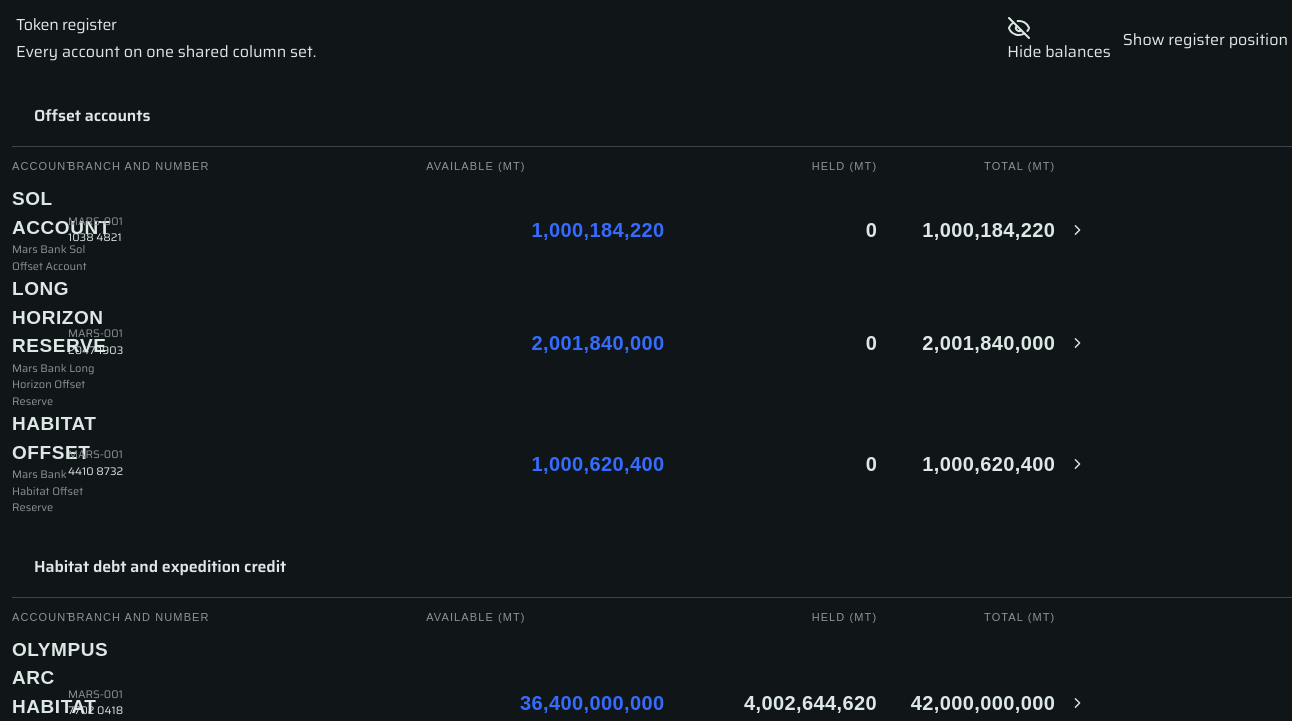
Test case: AccountsPage › keeps the Token register heading and reveals the position
The width and height of the screenshot is (1292, 721).
Expected: the heading "Token register" is shown, x1=16 y1=12 x2=117 y2=37
Click the button "Show register position".
click(1205, 40)  # box x1=1123 y1=28 x2=1288 y2=52
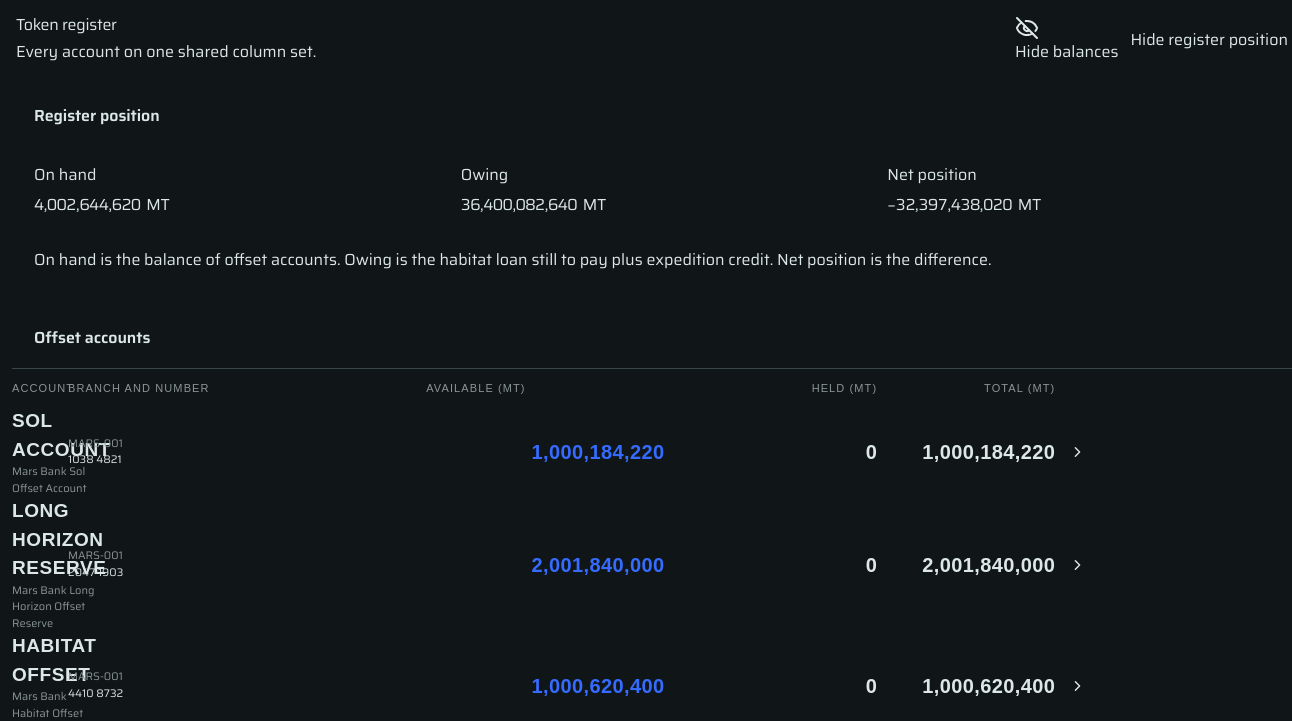
Now the text "On hand" shows "4,002,644,620", box x1=34 y1=192 x2=141 y2=217
Now the text "Owing" shows "36,400,082,640", box x1=461 y1=192 x2=577 y2=217
Now the text "Net position" shows "−32,397,438,020", box x1=887 y1=192 x2=1012 y2=217
